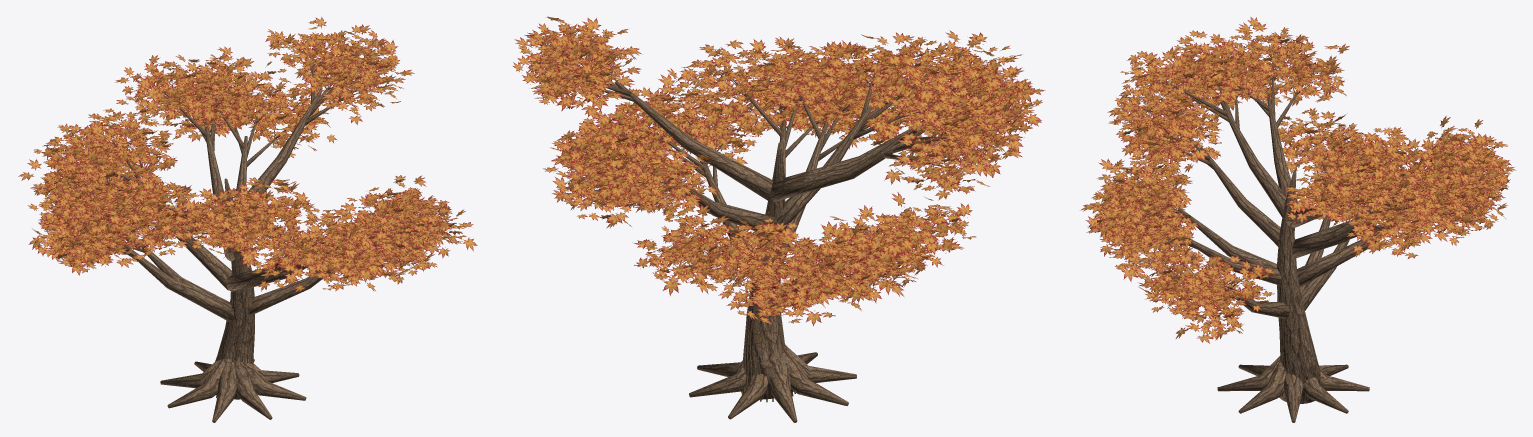
File: MaplePolish_3_Near.fbx
3 views of the same model, side by side, from view 1: azimuth 30°, elevation 25°; view 2: azimuth 150°, elevation 25°; view 3: azimuth 270°, elevation 25° (orthographic). The views are drawn at different scales.
Visible parts, largest first — view 1: MaplePolish_3_Near_Leaves, MaplePolish_3_Near_Wood; view 2: MaplePolish_3_Near_Leaves, MaplePolish_3_Near_Wood; view 3: MaplePolish_3_Near_Leaves, MaplePolish_3_Near_Wood.
Part boxes in pixels (x1,y1,x2,y2): MaplePolish_3_Near_Leaves: (18, 17, 477, 292); MaplePolish_3_Near_Wood: (60, 47, 429, 422); MaplePolish_3_Near_Leaves: (513, 16, 1045, 326); MaplePolish_3_Near_Wood: (547, 44, 983, 422); MaplePolish_3_Near_Leaves: (1080, 17, 1515, 343); MaplePolish_3_Near_Wood: (1111, 52, 1479, 422).
Bounding box in the file's own units: 12.1 × 8.83 × 11.6.
